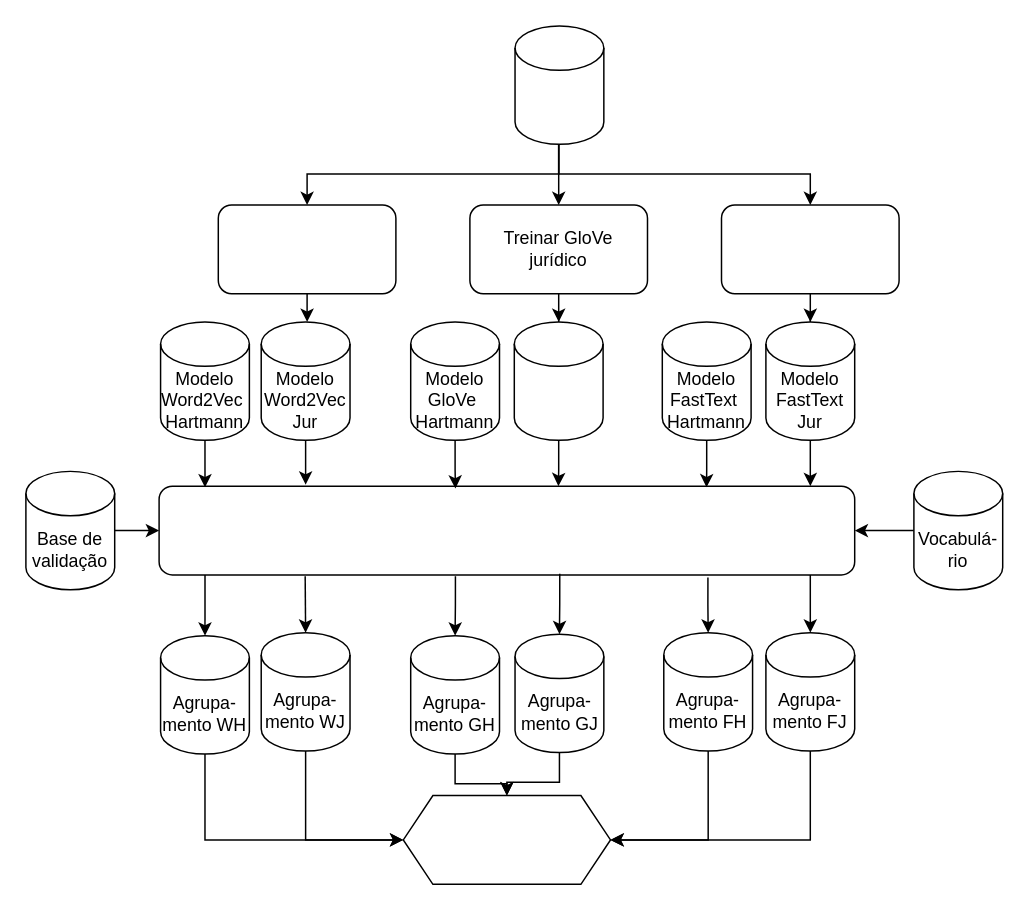
Image size: 1029x910. Some labels were removed from this diagram. Here are the shapes that lost their labels. From the top down, the box of each, then its label:
(514, 24, 604, 144): Base de treino
(217, 204, 396, 294): Treinar Word2Vec jurídico
(720, 204, 899, 294): Treinar FastText jurídico
(513, 320, 603, 440): Modelo GloVe Jur
(158, 485, 855, 575): Representar e agrupar documentos
(402, 794, 610, 884): Analisar e documentar resultados
